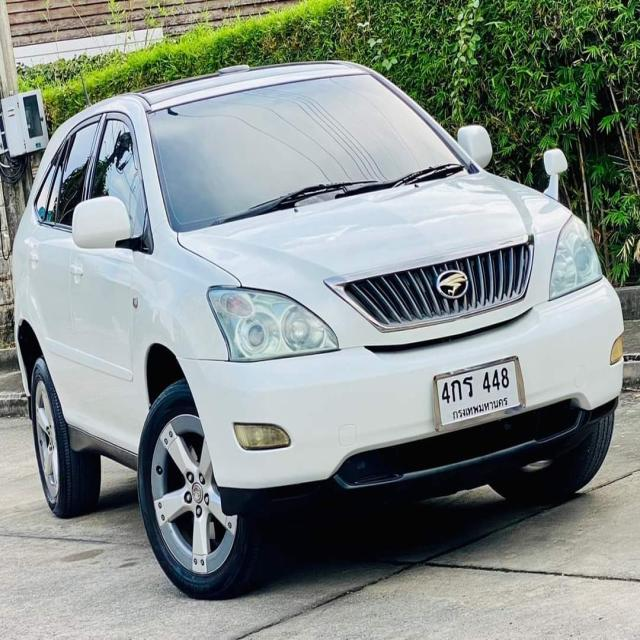license_plate: (431, 353, 529, 436)
